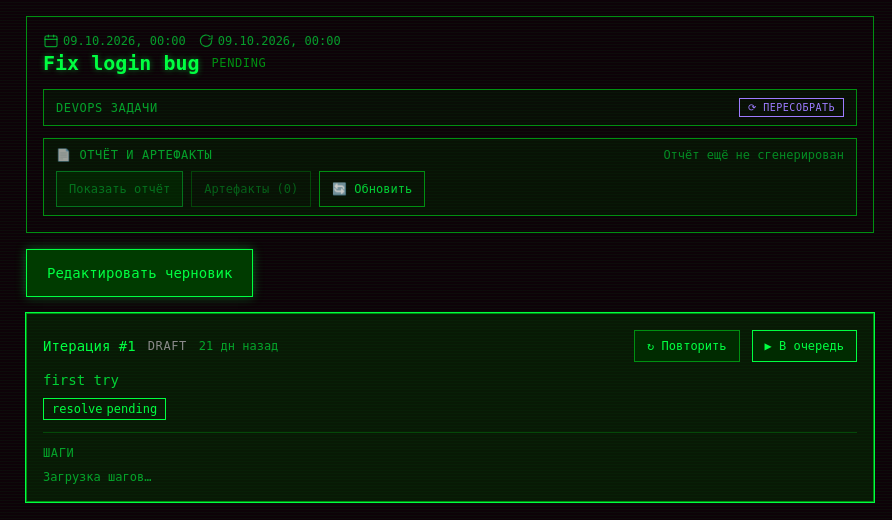
Test: TaskDetail — draft-итерации и очередь › draft можно поставить в очередь: POST /queue → pending
Expected: the text "Итерация #1" is shown, [43,336,136,356]
Click the button with test id "queue-iteration": (804, 346) [752,330,857,362]
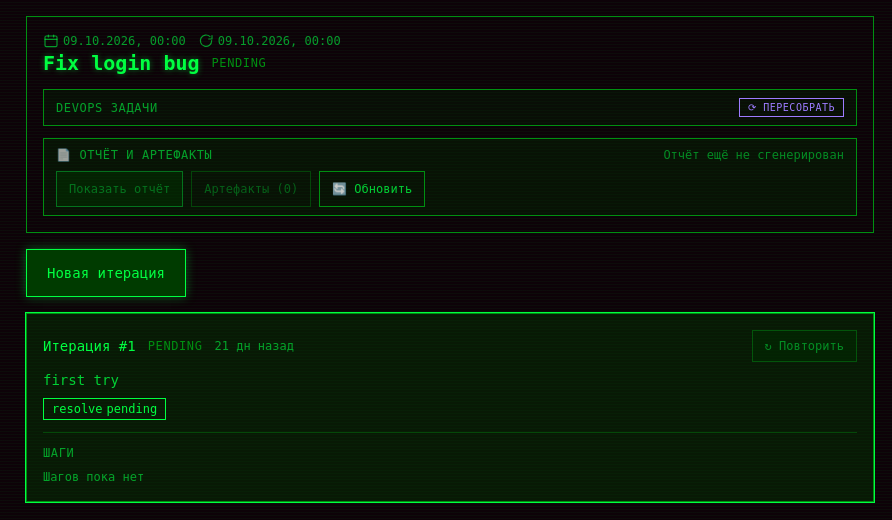
Expected: the 2nd text "pending" is shown, [148,338,202,354]
Expected: the button with test id "queue-iteration" is gone
